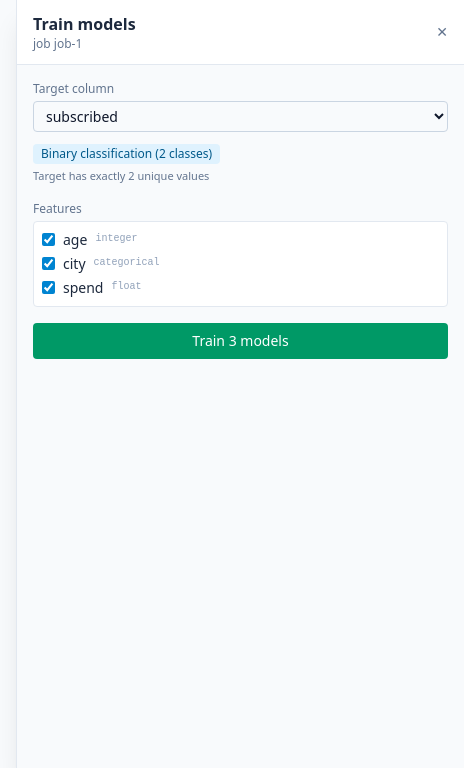
it: MLPanel › surfaces a thrown mlTrain error as an error message
The width and height of the screenshot is (464, 768).
Click the button with test id "ml-run": (240,340) [33,322,448,358]
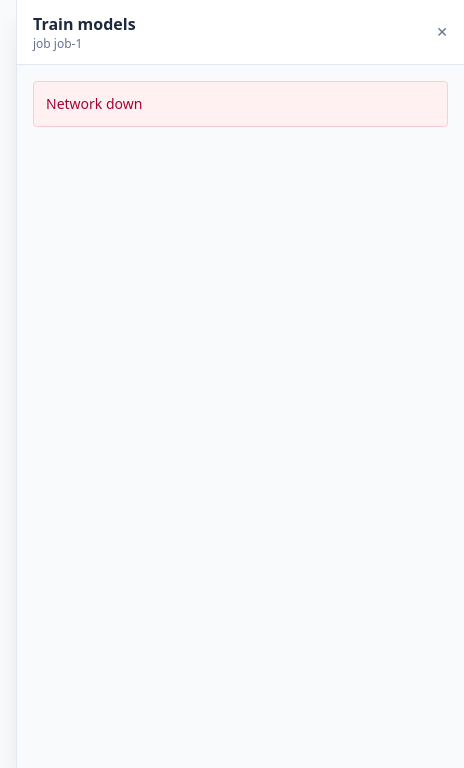
Expected: the text "Network down" is shown, [33,81,448,127]
